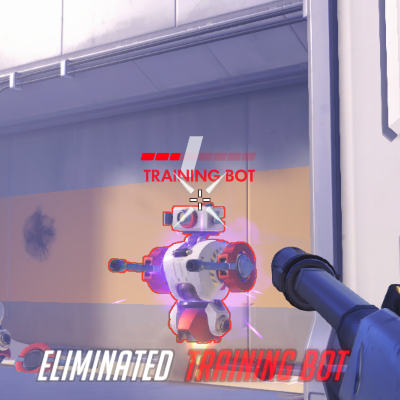hpbar: (140, 152, 256, 161)
